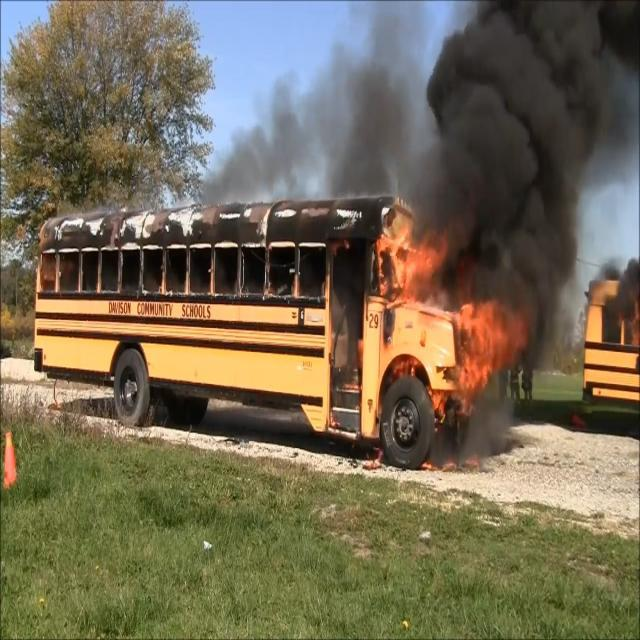Fire: (452, 320, 530, 378)
Smoke: (450, 9, 624, 249)
